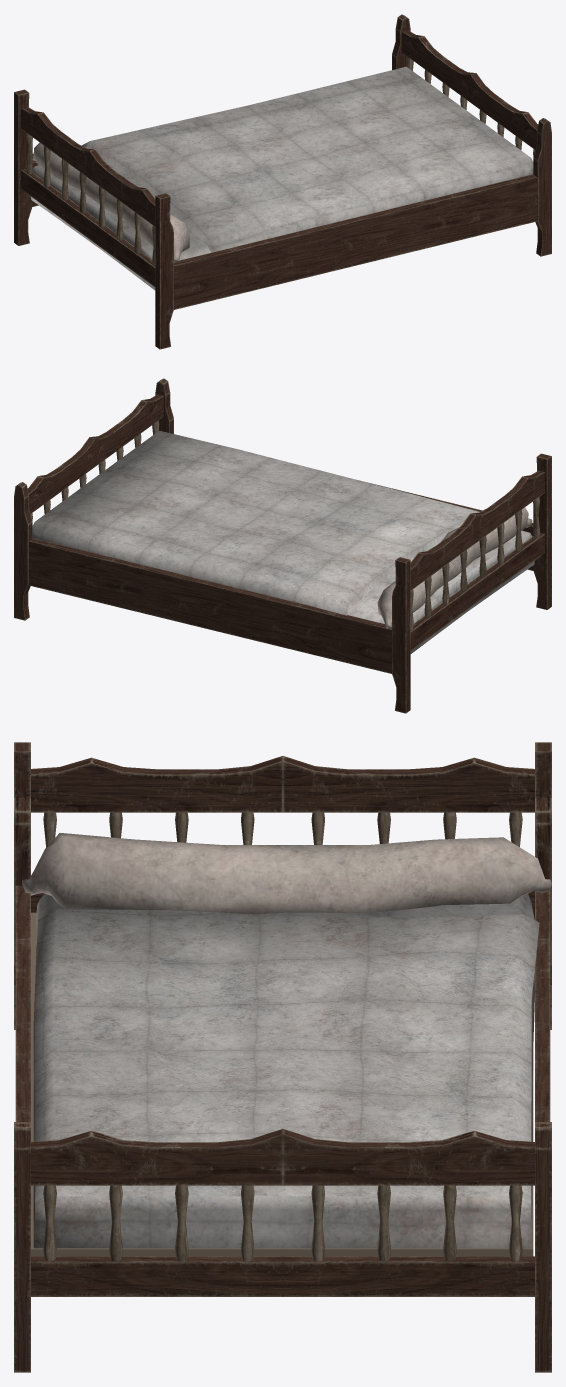
The model's file is bed.fbx.
3 renders of one model, top to bottom at view 1: azimuth 30°, elevation 25°; view 2: azimuth 150°, elevation 25°; view 3: azimuth 270°, elevation 25°, orthographic. The views are drawn at different scales.
Parts seen in each view (by area): view 1: Cube.001, Cube; view 2: Cube.001, Cube; view 3: Cube.001, Cube.
Boxes of the visible parts, x1,y1,x2,y2 form: Cube.001: (30, 66, 533, 290); Cube: (14, 14, 551, 349); Cube.001: (32, 430, 534, 653); Cube: (14, 378, 551, 713); Cube.001: (33, 894, 539, 1248); Cube: (14, 742, 551, 1372).
Size of the model in its own units: 4.26 by 1.57 by 2.75.
